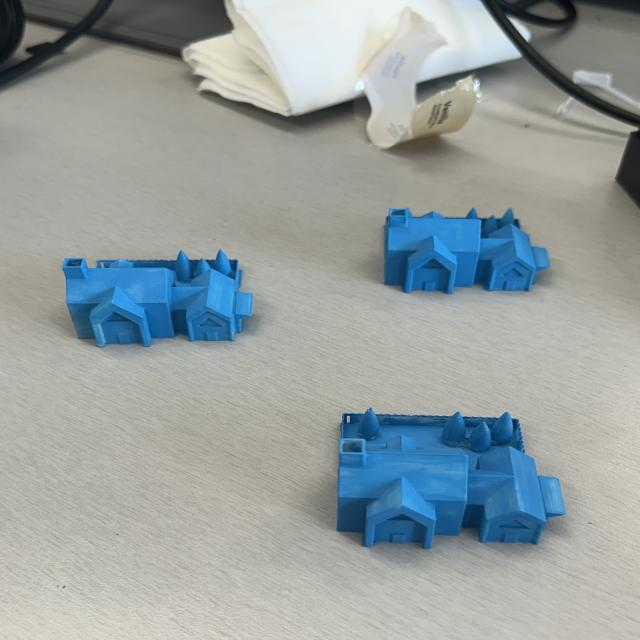house: (334, 407, 568, 546), (60, 248, 253, 350), (383, 205, 552, 294)
